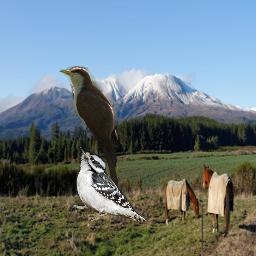Cuckoo: (59, 66, 122, 194)
Woodpecker: (70, 145, 148, 222)
